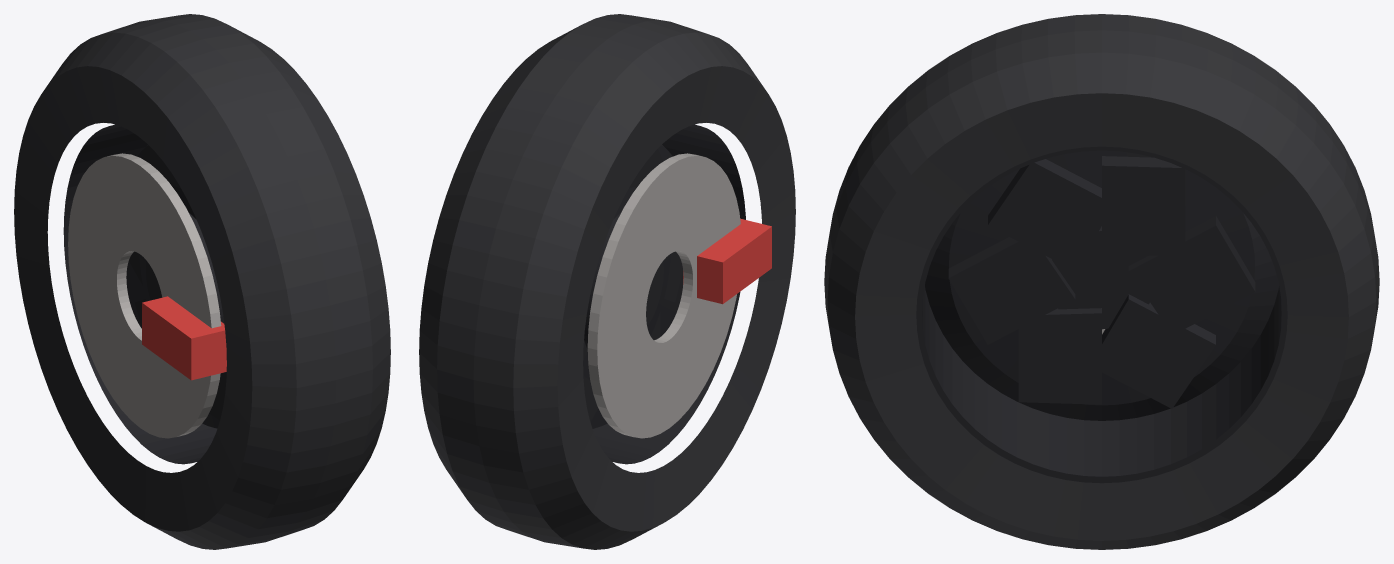
The model's file is deep_dish_6spoke.glb.
3 renders of one model, left to right at view 1: azimuth 30°, elevation 25°; view 2: azimuth 150°, elevation 25°; view 3: azimuth 270°, elevation 25°, orthographic. The views are drawn at different scales.
Parts seen in each view (by area): view 1: Tire, BrakeRotor, RimBarrel, BrakeCaliper, RimSpokes; view 2: Tire, BrakeRotor, RimBarrel, BrakeCaliper, RimSpokes, HubCap; view 3: Tire, RimSpokes, RimBarrel, HubCap.
Part boxes in pixels (x1,y1,x2,y2): Tire: [14, 14, 390, 549]; BrakeRotor: [68, 153, 221, 438]; RimBarrel: [63, 124, 226, 464]; BrakeCaliper: [142, 296, 226, 380]; RimSpokes: [129, 146, 226, 420]; Tire: [419, 14, 795, 549]; BrakeRotor: [587, 153, 740, 438]; RimBarrel: [583, 124, 745, 464]; BrakeCaliper: [683, 218, 771, 304]; RimSpokes: [583, 149, 682, 421]; HubCap: [646, 261, 663, 326]; Tire: [824, 14, 1379, 549]; RimSpokes: [948, 156, 1255, 408]; RimBarrel: [916, 146, 1287, 483]; HubCap: [1052, 226, 1149, 329].
Bounding box in the file's own units: 0.295 × 0.8703 × 0.8703.
